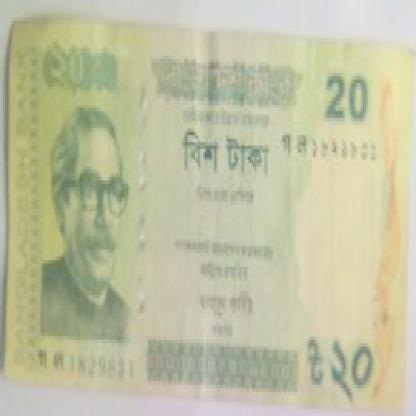Twenty: (174, 125, 274, 194), (48, 41, 128, 118), (306, 329, 376, 402), (316, 59, 376, 125)
